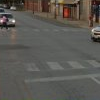crosswalk: (24, 59, 99, 71), (0, 26, 68, 32)
